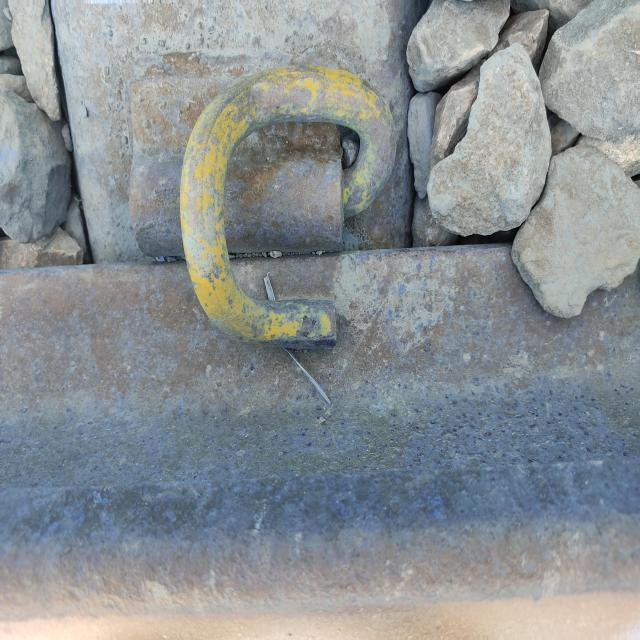Good Fasteners: (129, 65, 395, 347)
